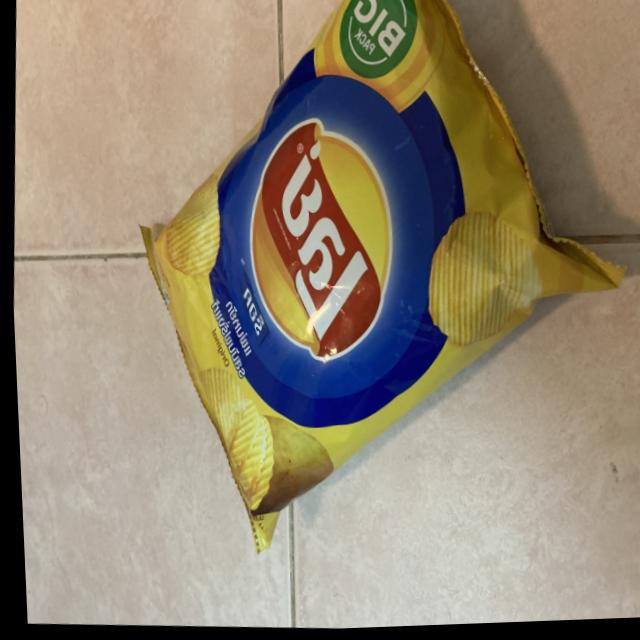LayYellow: (142, 1, 571, 489)
